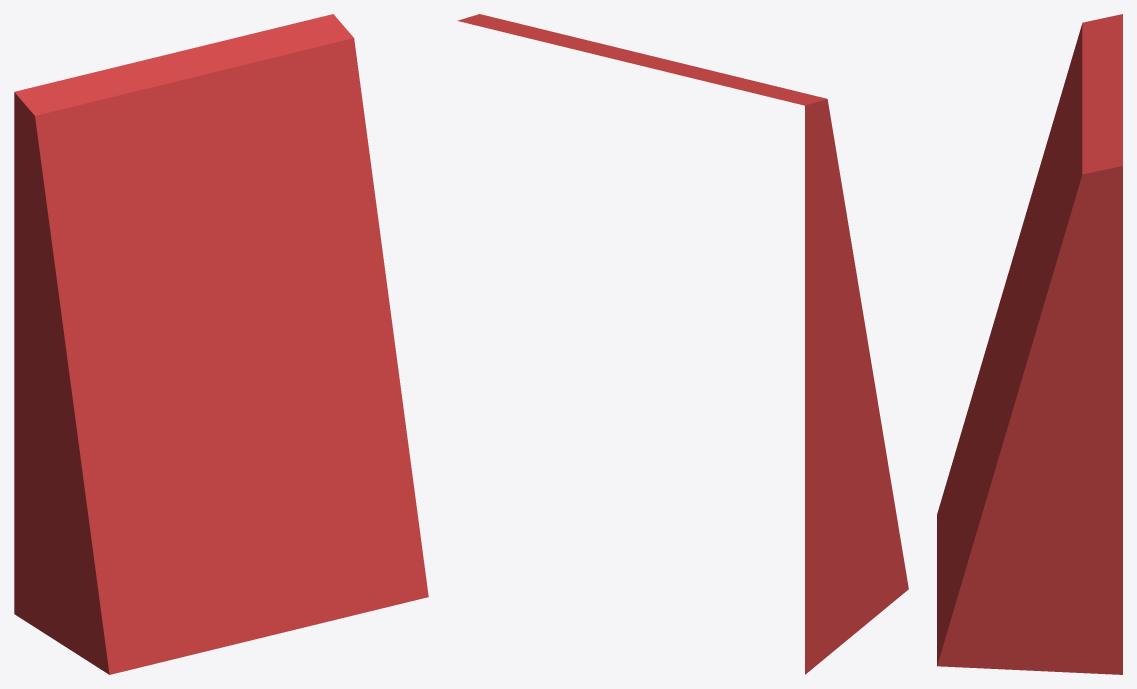
File: heater_switch.glb
The picture shows the model from 3 angles, left to right: view 1: azimuth 30°, elevation 25°; view 2: azimuth 150°, elevation 25°; view 3: azimuth 270°, elevation 25°; orthographic projection. The views are drawn at different scales.
Visible parts, largest first — view 1: heater_switch; view 2: heater_switch; view 3: heater_switch.
Part boxes in pixels (x1,y1,x2,y2): heater_switch: [14, 14, 428, 674]; heater_switch: [457, 14, 908, 674]; heater_switch: [937, 14, 1122, 674].
Size of the model in its own units: 0.0318 by 0.0497 by 0.0164.
